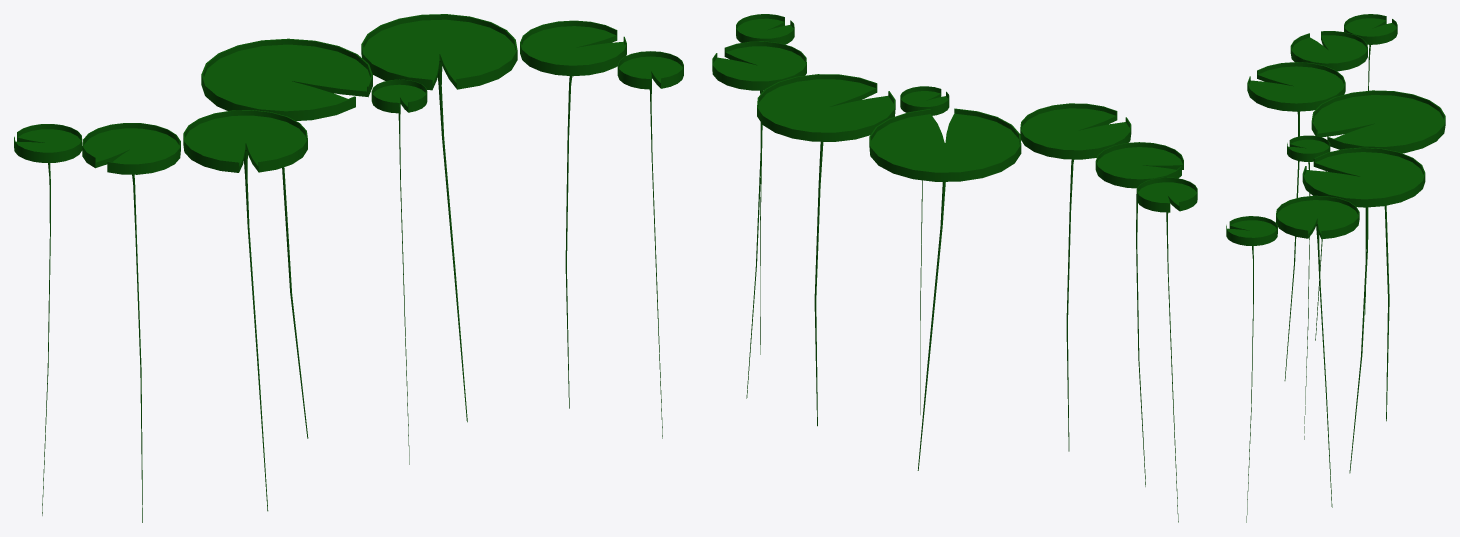
Rendered from Lily Pad Cluster 2.obj.
3 views of the same model, side by side, from view 1: azimuth 30°, elevation 25°; view 2: azimuth 150°, elevation 25°; view 3: azimuth 270°, elevation 25° (orthographic). The views are drawn at different scales.
Bounding box in the file's own units: 61.88 × 37.72 × 25.64.
